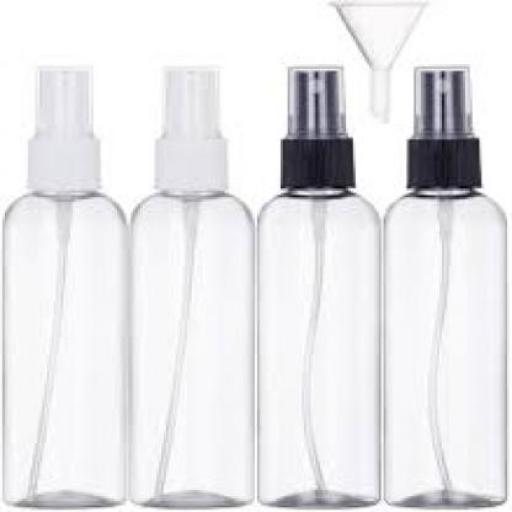glass: (253, 184, 378, 510), (379, 186, 505, 509), (127, 190, 252, 505), (0, 190, 124, 505)
plastic: (330, 0, 423, 122), (280, 62, 356, 190), (26, 64, 98, 198), (152, 67, 227, 193), (404, 62, 480, 184)
